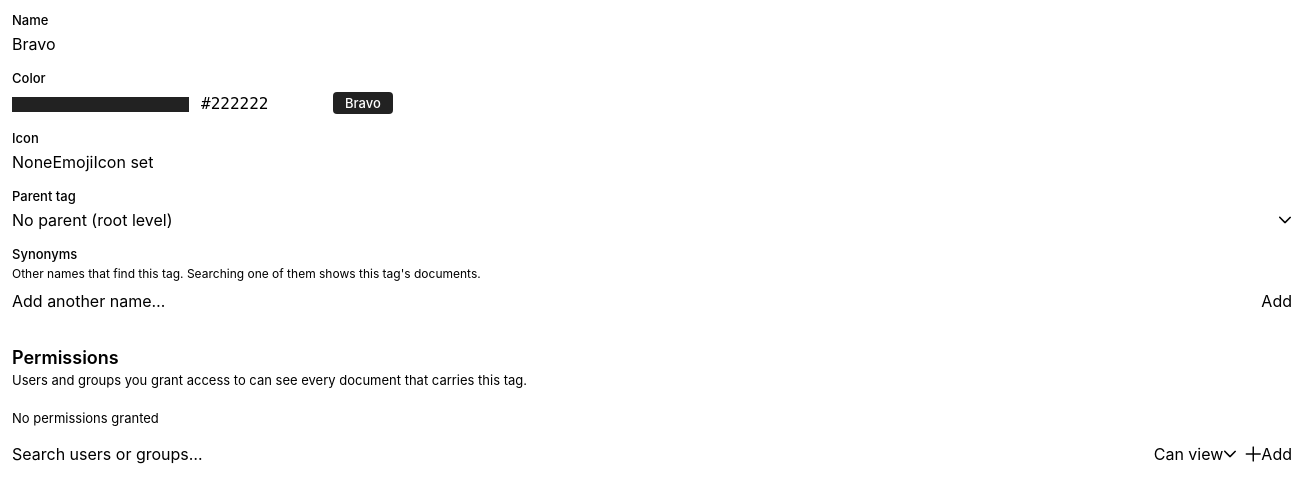
TagForm — synonyms (#280) › refuses the tag's own name for the same reason
This screenshot has width=1304, height=504.
Type "bravo" into the field with id "tag-synonym" at (633, 301), box [12,291,1253,311]
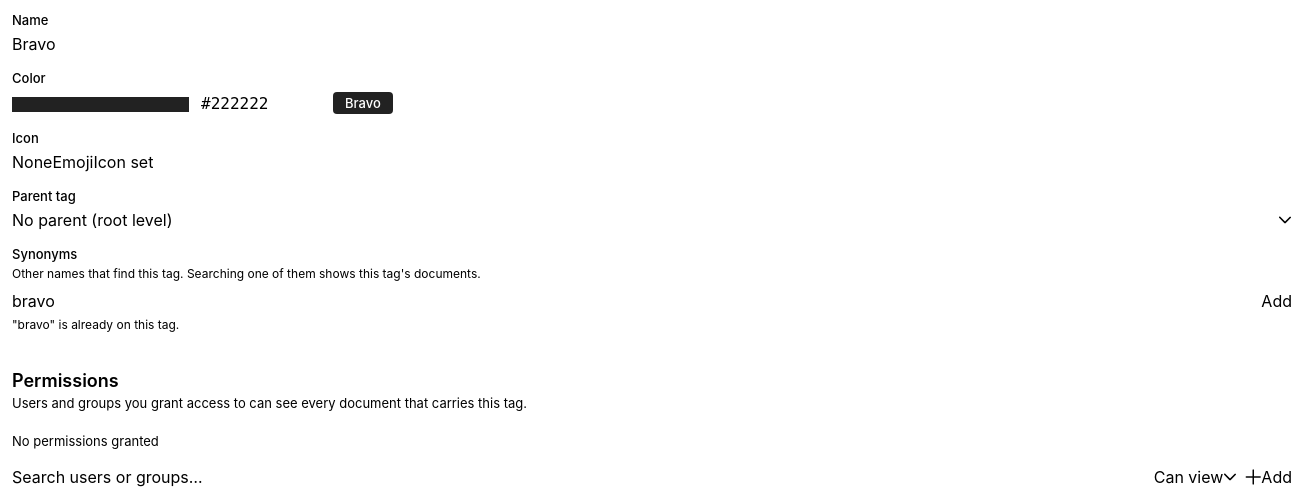
Check: the message with class "synonym-notice" shows "already on this tag", box [12,317,179,332]
